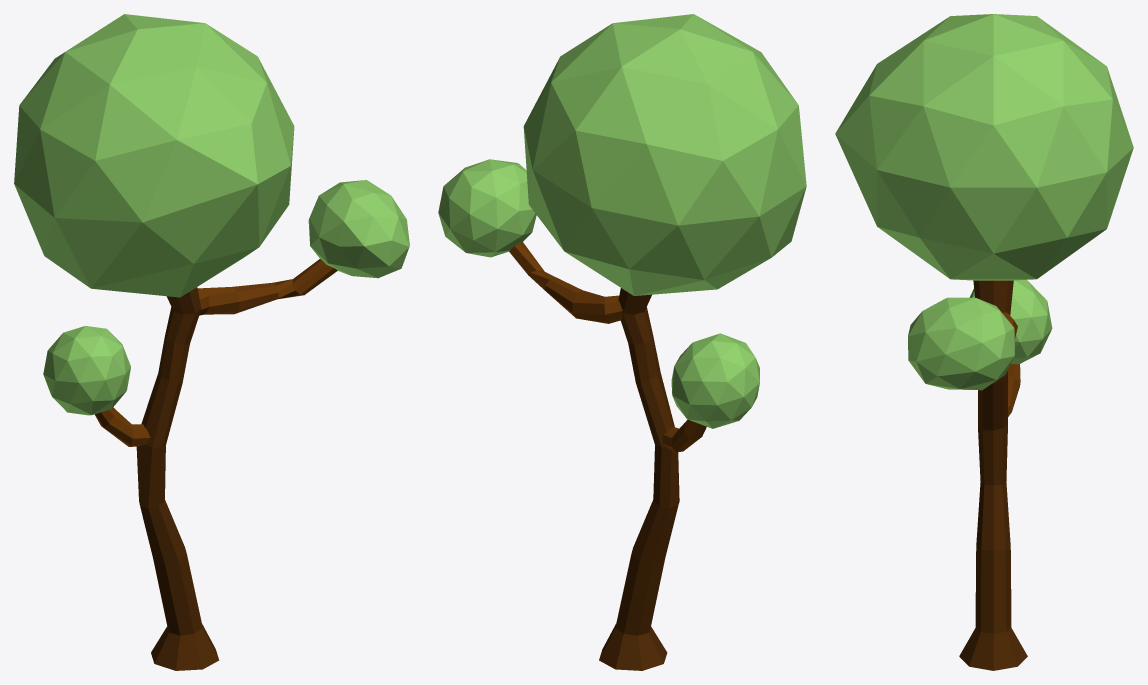
File: Tree_03.fbx
The picture shows the model from 3 angles, left to right: view 1: azimuth 30°, elevation 25°; view 2: azimuth 150°, elevation 25°; view 3: azimuth 270°, elevation 25°; orthographic projection. The views are drawn at different scales.
Visible parts, largest first — view 1: Tree_03; view 2: Tree_03; view 3: Tree_03.
Part boxes in pixels (x1,y1,x2,y2): Tree_03: [14, 14, 409, 670]; Tree_03: [438, 14, 806, 670]; Tree_03: [835, 14, 1133, 670].
Size of the model in its own units: 262 by 452 by 197.
